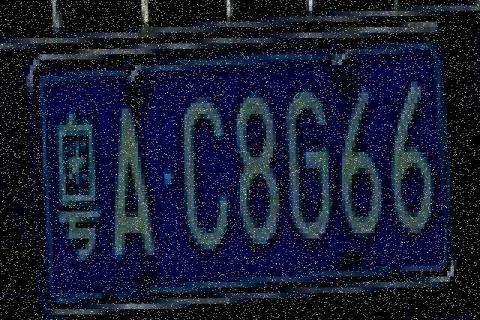LicensePlate: (24, 37, 458, 313)
